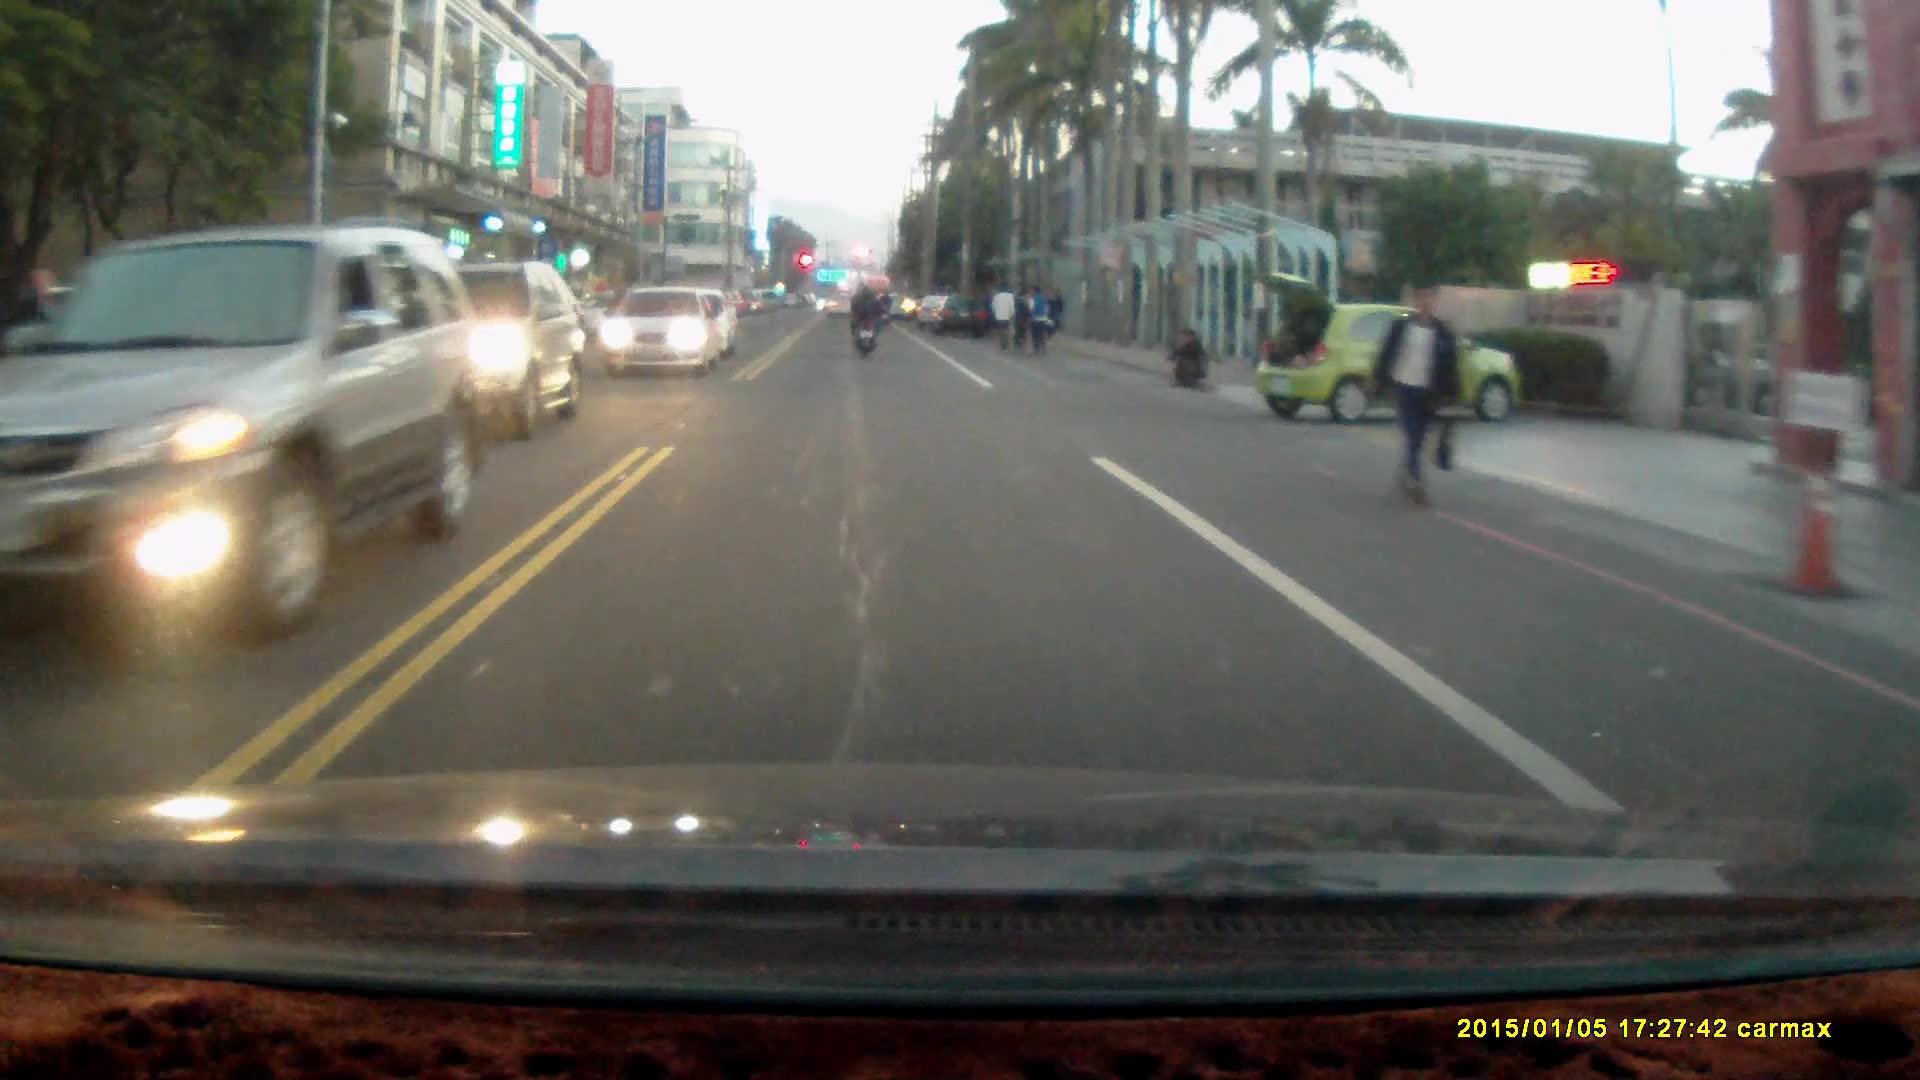pedestrian: (1368, 277, 1463, 513), (1168, 324, 1209, 389), (1024, 280, 1054, 356), (993, 281, 1018, 358), (1009, 285, 1034, 354)
rider: (846, 279, 883, 355)
vehicle: (2, 223, 480, 647), (349, 258, 588, 443), (1250, 267, 1516, 422), (603, 282, 719, 374), (935, 292, 993, 338)
